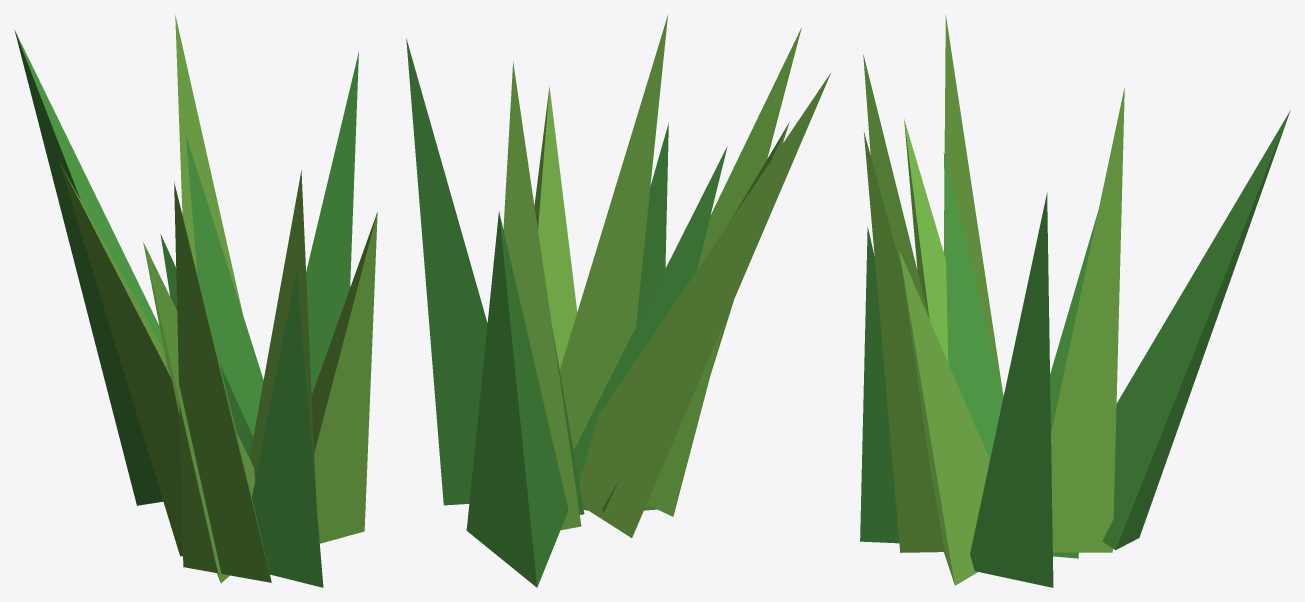
File: Grass_Tuft_C.fbx
3 renders of one model, left to right at view 1: azimuth 30°, elevation 25°; view 2: azimuth 150°, elevation 25°; view 3: azimuth 270°, elevation 25°, orthographic. The views are drawn at different scales.
Parts seen in each view (by area): view 1: Grass_Tuft_C; view 2: Grass_Tuft_C; view 3: Grass_Tuft_C.
Boxes of the visible parts, box(x1,y1,x2,y2) form: Grass_Tuft_C: box(14, 15, 377, 587); Grass_Tuft_C: box(406, 15, 830, 587); Grass_Tuft_C: box(860, 14, 1290, 587).
Size of the model in its own units: 0.4461 by 0.5913 by 0.4951.
